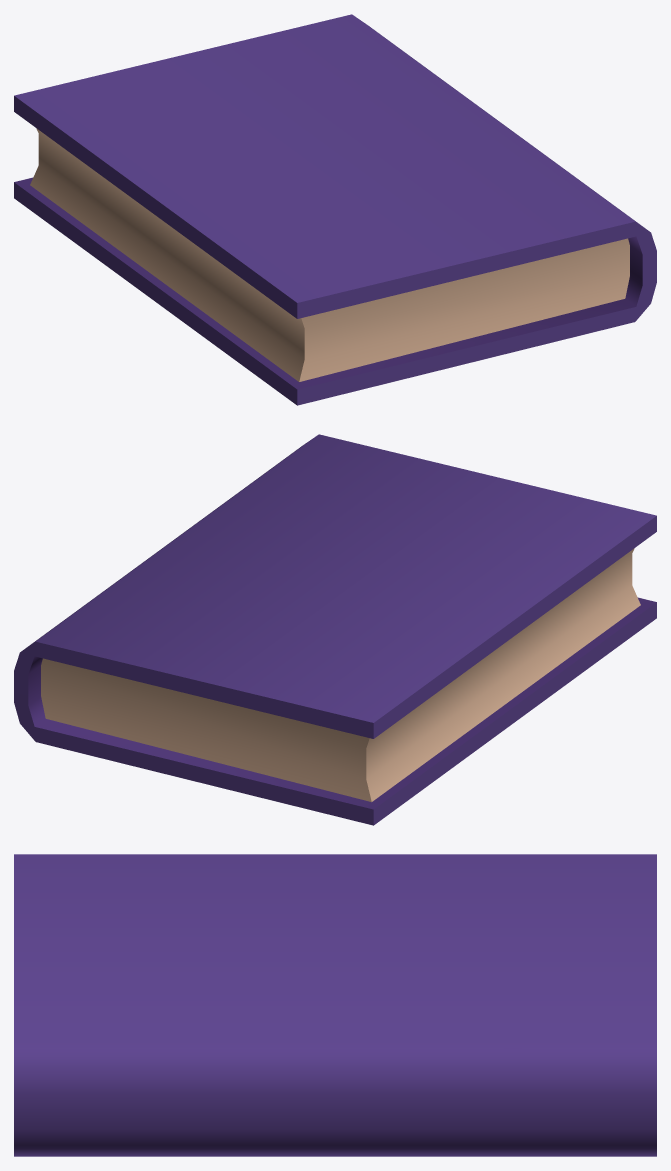
The model's file is BookClosed7.fbx.
3 views of the same model, one above another, from view 1: azimuth 30°, elevation 25°; view 2: azimuth 150°, elevation 25°; view 3: azimuth 270°, elevation 25° (orthographic). The views are drawn at different scales.
Visible parts, largest first — view 1: BookClosed7; view 2: BookClosed7; view 3: BookClosed7.
Part boxes in pixels (box(x1,y1,x2,y2)): BookClosed7: box(14, 14, 656, 405); BookClosed7: box(14, 434, 656, 825); BookClosed7: box(14, 854, 656, 1156).
Size of the model in its own units: 22 by 6 by 30.01.
